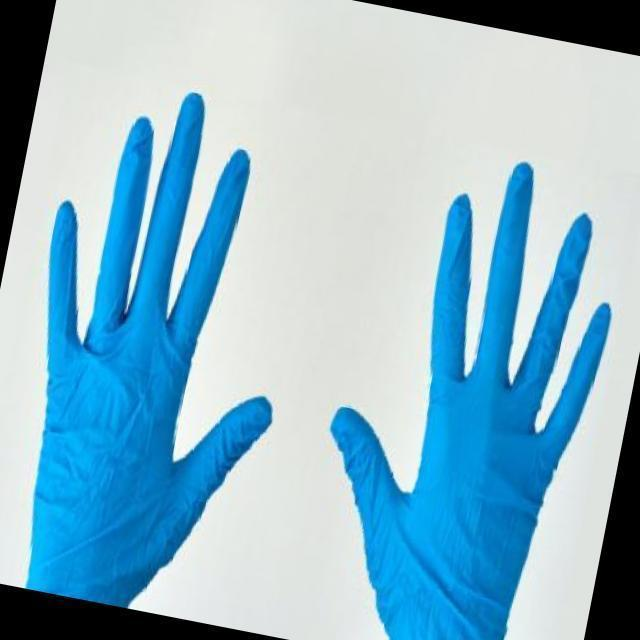gloved_hand: (321, 146, 618, 640), (15, 81, 289, 613)
